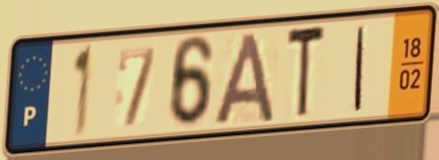1: (69, 39, 100, 142)
6: (166, 33, 216, 132)
7: (115, 45, 157, 130)
A: (211, 29, 278, 127)
I: (351, 24, 368, 114)
T: (284, 21, 328, 125)
